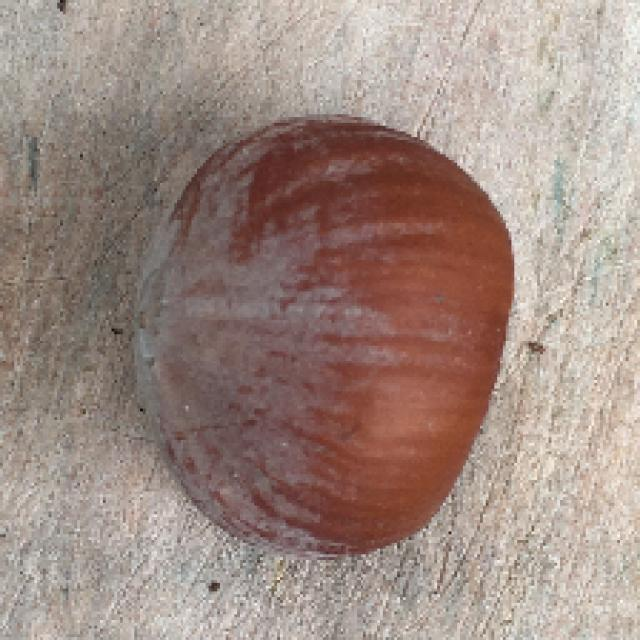QualityHazelnut: (132, 110, 514, 558)
